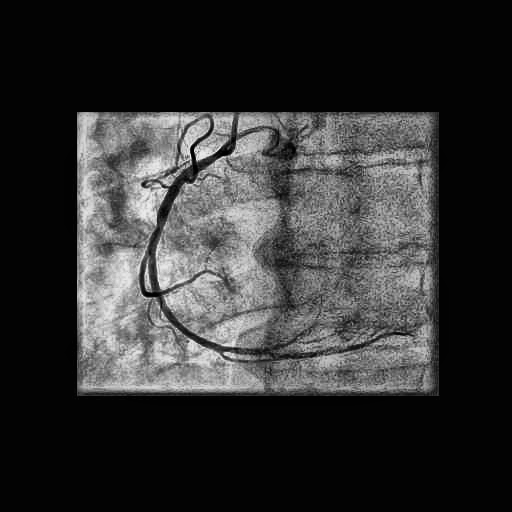pborca: (223, 339, 294, 356)
pda: (220, 352, 289, 364)
rca: (148, 148, 226, 353)
